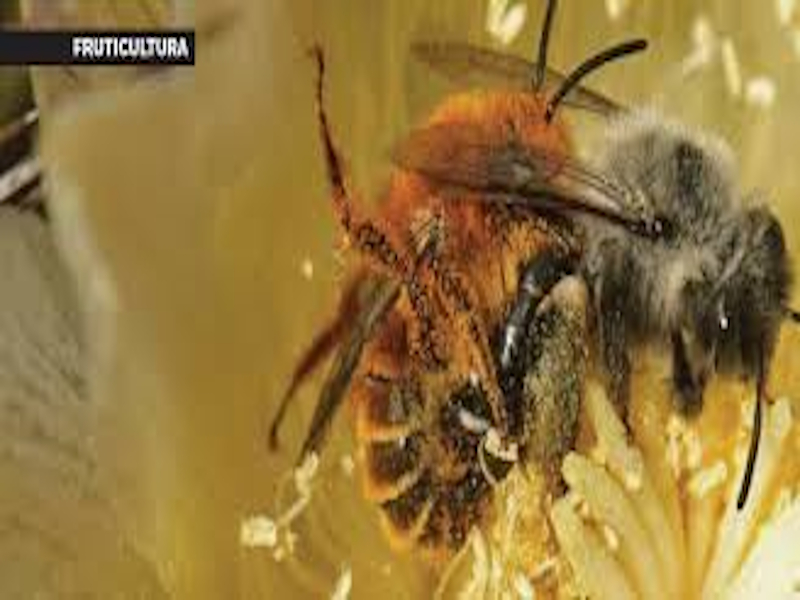abeja: (280, 1, 633, 558)
